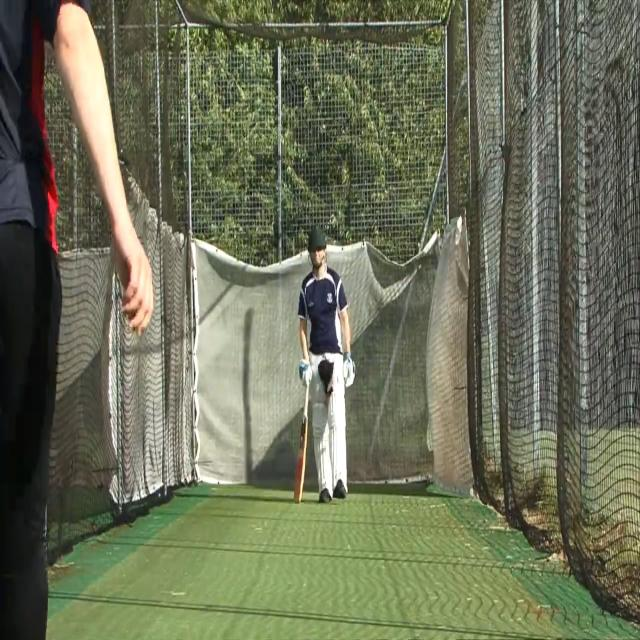batsman: (293, 223, 356, 508)
